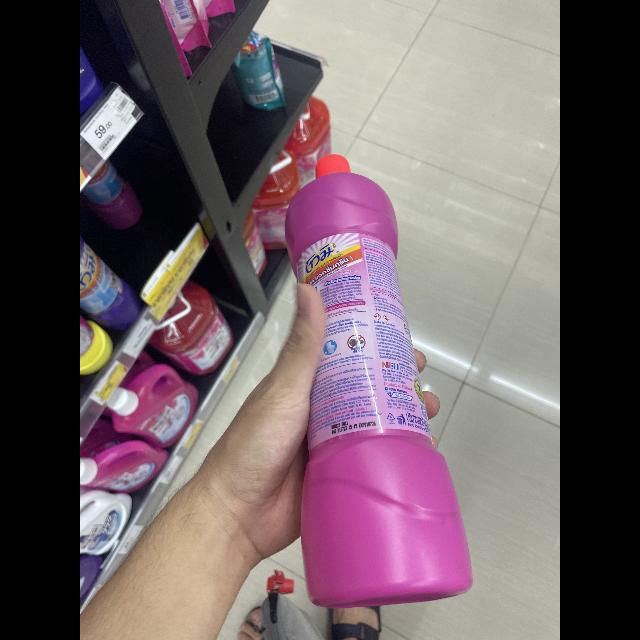chemical_plastic_bottle: (280, 140, 480, 612)
